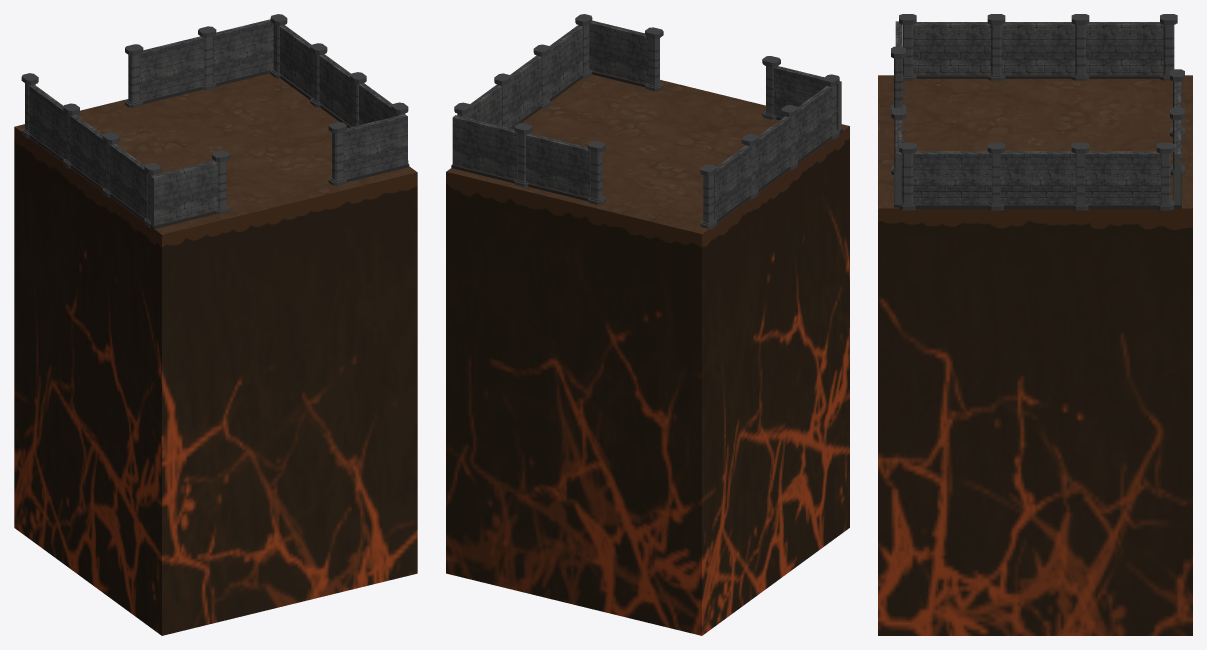
The model's file is Plataforma 1 ZigZag 3.fbx.
3 views of the same model, side by side, from view 1: azimuth 30°, elevation 25°; view 2: azimuth 150°, elevation 25°; view 3: azimuth 270°, elevation 25° (orthographic). The views are drawn at different scales.
Parts seen in each view (by area): view 1: Plataforma 1.005, Muro.015, Muro.017, Muro.018, Muro.016, Muro.014, Muro.012, Muro.013, Muro.011, Muro.010, Muro.009, Pilar.019 (+5 smaller); view 2: Plataforma 1.005, Muro.016, Muro.018, Muro.017, Muro.014, Muro.012, Muro.013, Muro.009, Muro.015, Muro.010, Muro.011, Pilar.019 (+6 smaller); view 3: Plataforma 1.005, Muro.009, Muro.011, Muro.014, Muro.010, Muro.012, Muro.013, Pilar.014, Pilar.010, Pilar.011, Pilar.012, Pilar.013 (+6 smaller).
Boxes of the visible parts, <box> form: Plataforma 1.005: <box>14,73,417,635</box>; Muro.015: <box>150,160,217,229</box>; Muro.017: <box>343,114,409,182</box>; Muro.018: <box>140,36,204,103</box>; Muro.016: <box>213,19,273,86</box>; Muro.014: <box>109,144,147,220</box>; Muro.012: <box>29,84,66,161</box>; Muro.013: <box>70,115,105,190</box>; Muro.011: <box>279,25,313,99</box>; Muro.010: <box>319,54,352,127</box>; Muro.009: <box>359,83,394,125</box>; Pilar.019: <box>328,122,346,185</box>; Plataforma 1.005: <box>446,71,849,635</box>; Muro.016: <box>451,115,517,183</box>; Muro.018: <box>526,133,590,201</box>; Muro.017: <box>589,20,648,87</box>; Muro.014: <box>795,86,832,163</box>; Muro.012: <box>714,145,751,222</box>; Muro.013: <box>755,116,791,191</box>; Muro.009: <box>547,25,582,101</box>; Muro.015: <box>773,66,842,134</box>; Muro.010: <box>508,55,541,128</box>; Muro.011: <box>468,84,501,126</box>; Pilar.019: <box>645,27,663,91</box>; Plataforma 1.005: <box>878,75,1192,635</box>; Muro.009: <box>913,151,992,208</box>; Muro.011: <box>1084,151,1161,208</box>; Muro.014: <box>913,22,990,78</box>; Muro.010: <box>1000,151,1076,208</box>; Muro.012: <box>1086,22,1163,78</box>; Muro.013: <box>1001,22,1075,78</box>; Pilar.014: <box>899,142,916,210</box>; Pilar.010: <box>1071,14,1089,80</box>; Pilar.011: <box>987,14,1005,80</box>; Pilar.012: <box>1156,142,1174,210</box>; Pilar.013: <box>1160,14,1177,80</box>.
Bounding box in the file's own units: 1014 × 1712 × 1000.
